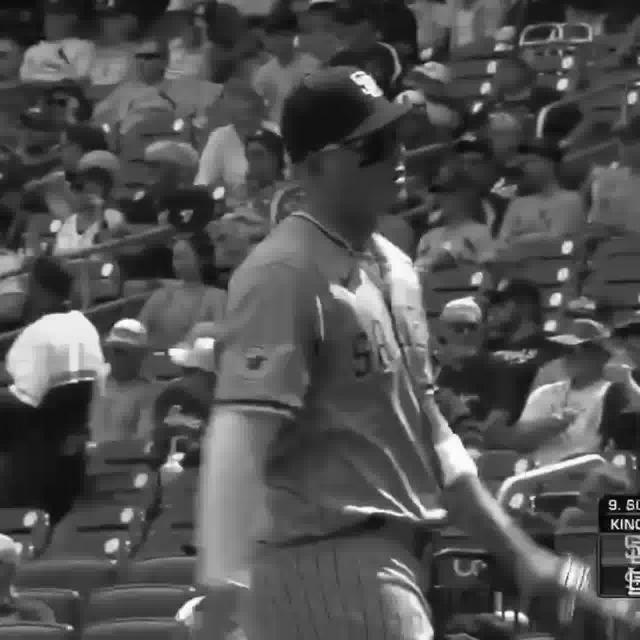baseball_glove: (559, 568, 634, 640)
